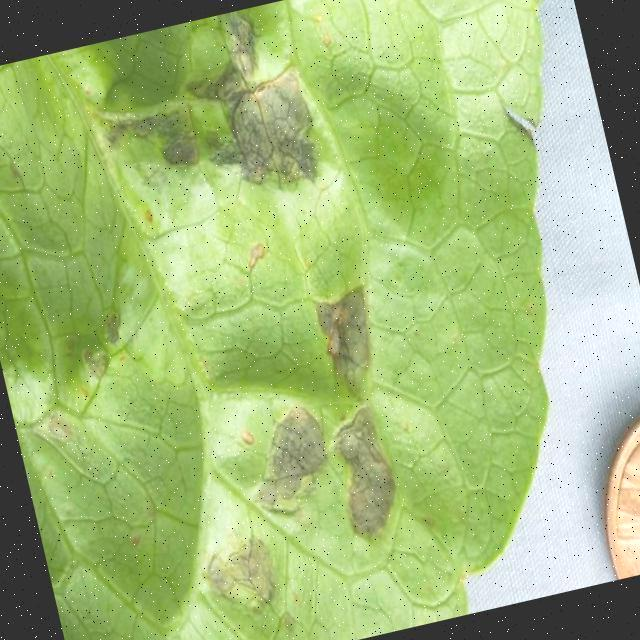Bacterial: (63, 8, 440, 640)
